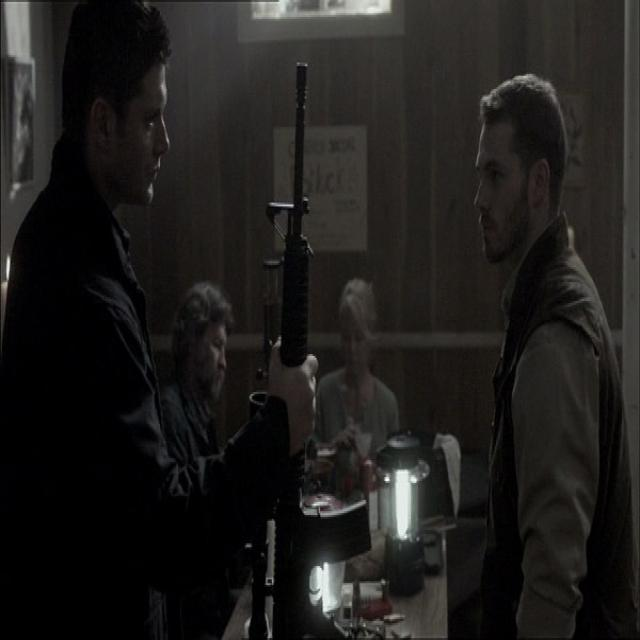rifle: (236, 55, 380, 640)
